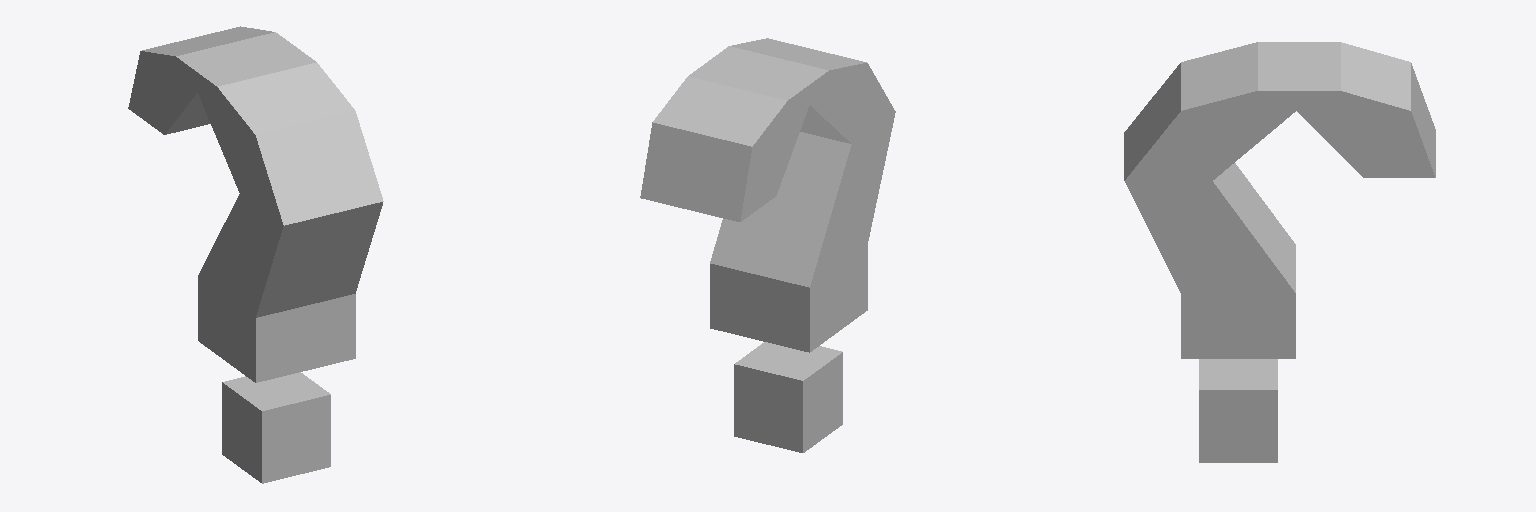
The model's file is item.obj.
3 views of the same model, side by side, from view 1: azimuth 30°, elevation 25°; view 2: azimuth 150°, elevation 25°; view 3: azimuth 270°, elevation 25° (orthographic).
Parts seen in each view (by area): view 1: Cube; view 2: Cube; view 3: Cube.
Boxes of the visible parts, x1=… form: Cube: x1=128, y1=26, x2=383, y2=483; Cube: x1=640, y1=38, x2=895, y2=452; Cube: x1=1124, y1=42, x2=1435, y2=462.
Bounding box in the file's own units: 2 × 7.25 × 5.39.